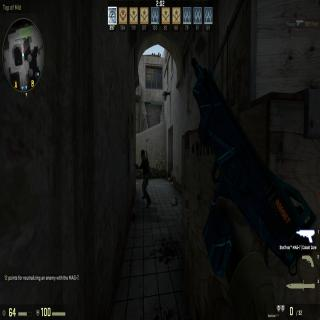T-Body: (139, 148, 151, 208)
T-Head: (140, 148, 146, 159)
